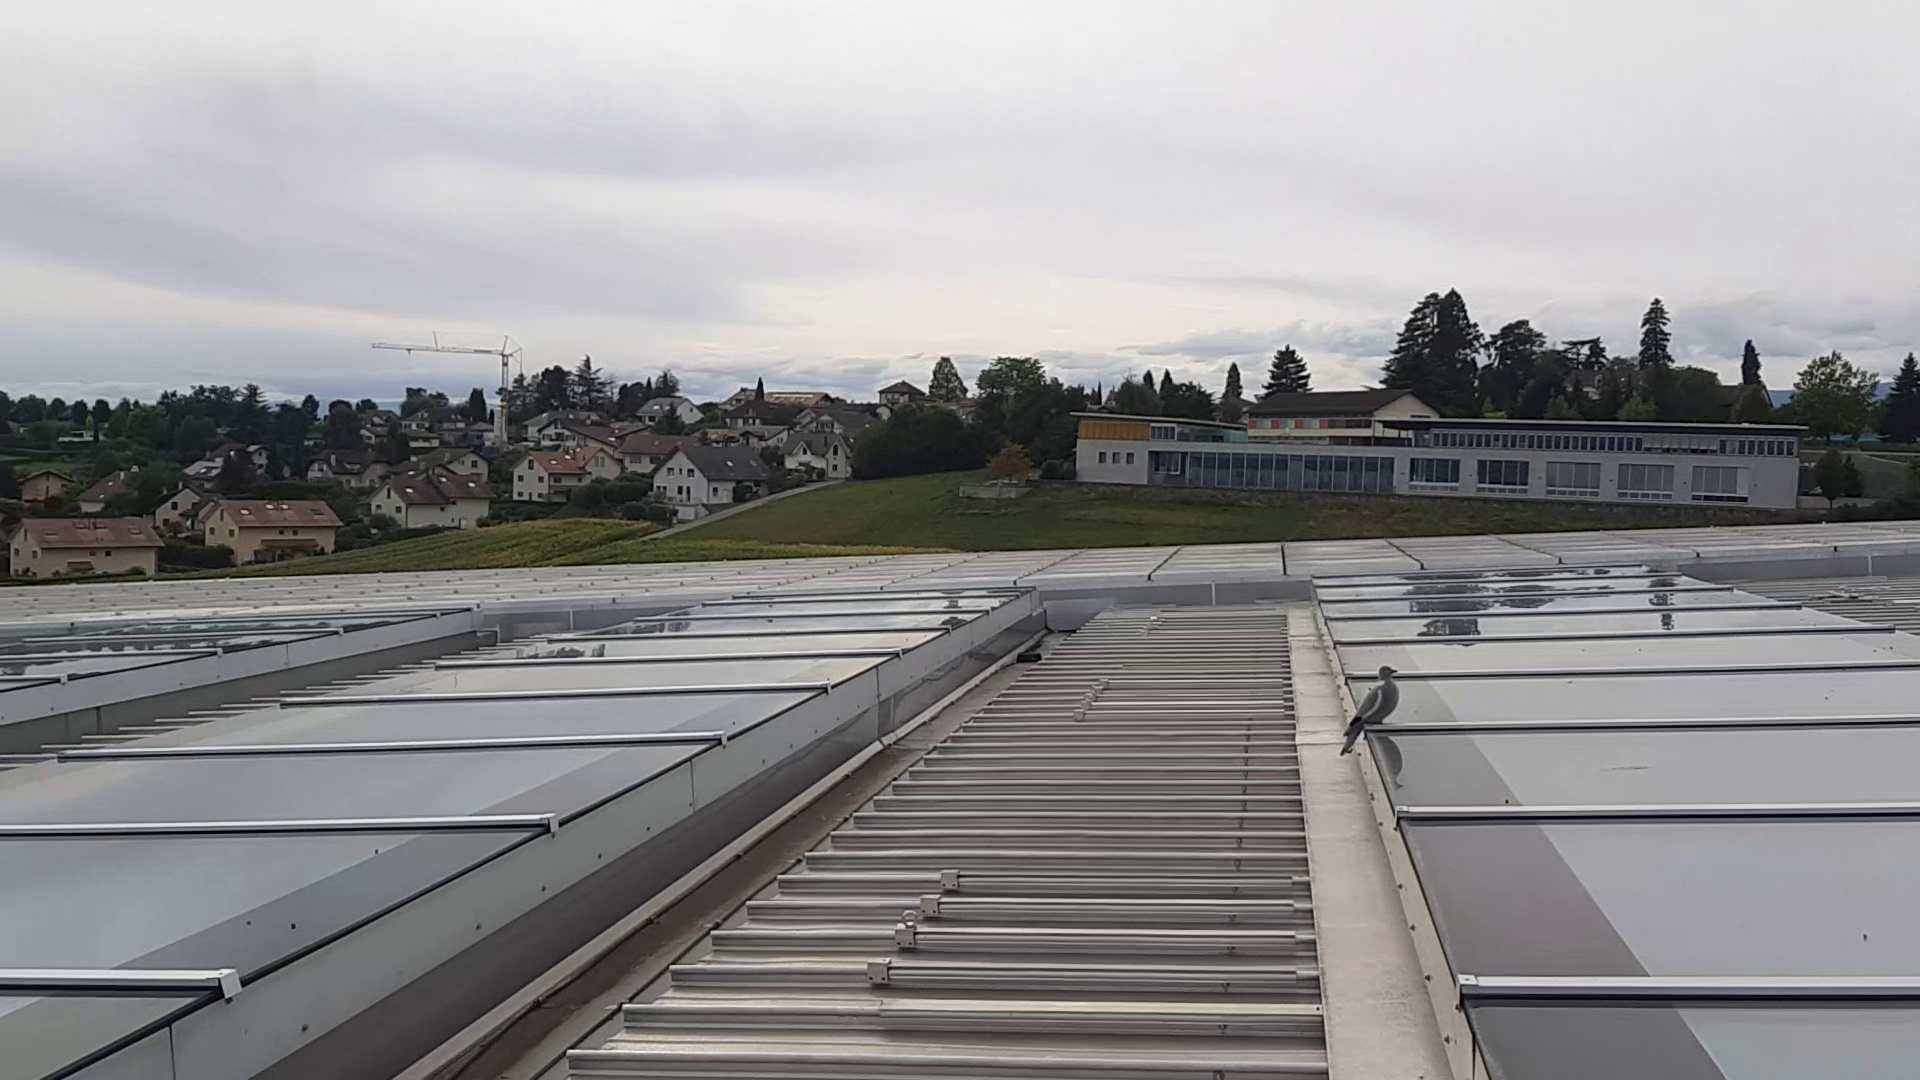Pigeon: (1336, 665, 1412, 758)
